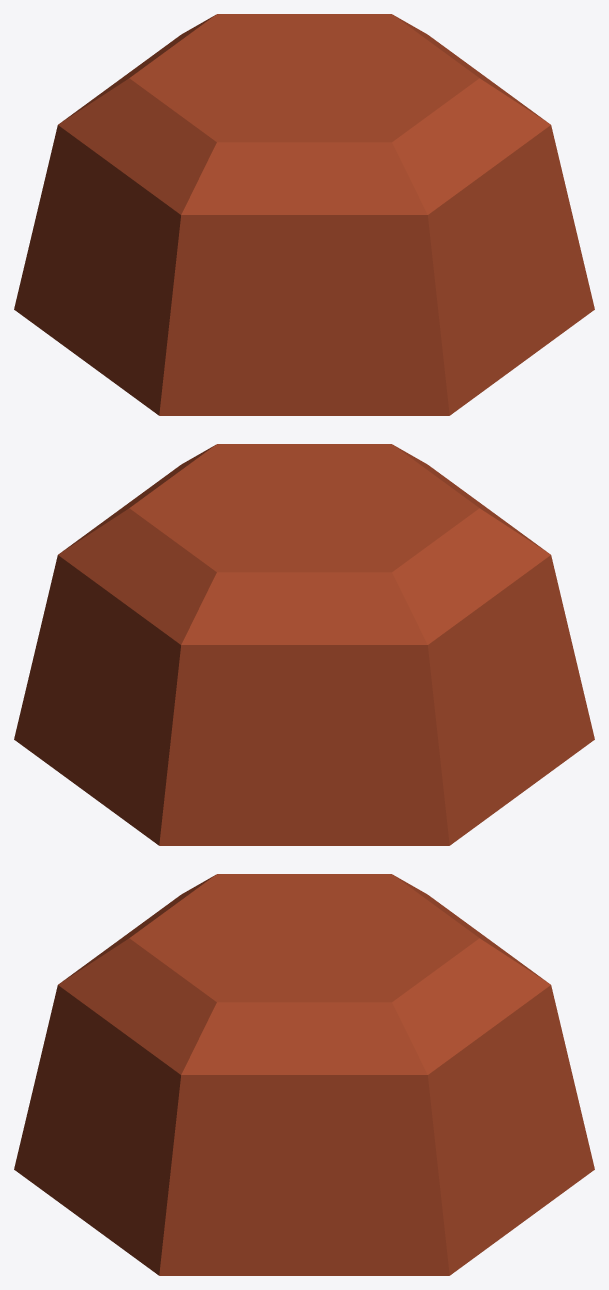
The model's file is DesertRockD.glb.
3 views of the same model, one above another, from view 1: azimuth 30°, elevation 25°; view 2: azimuth 150°, elevation 25°; view 3: azimuth 270°, elevation 25° (orthographic).
Parts seen in each view (by area): view 1: Cylinder; view 2: Cylinder; view 3: Cylinder.
Part boxes in pixels (x1,y1,x2,y2): Cylinder: (14, 14, 594, 415); Cylinder: (14, 444, 594, 845); Cylinder: (14, 874, 594, 1275).
Size of the model in its own units: 2.8 by 1.42 by 3.23.
